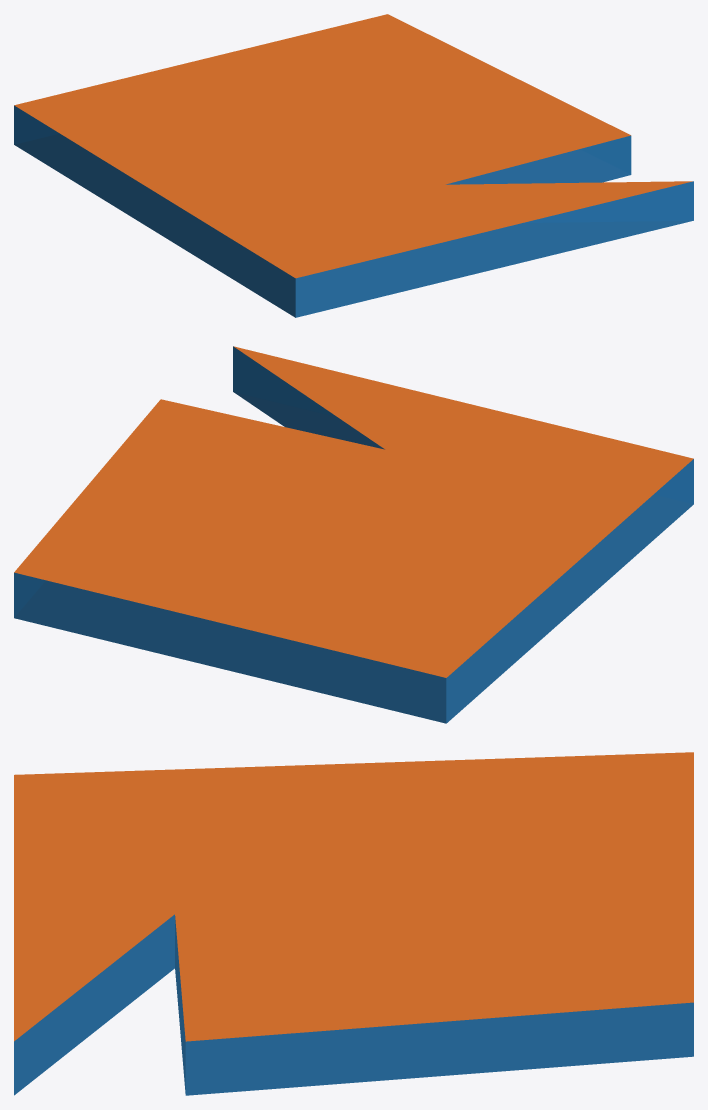
Rendered from narela_gps.obj.
3 renders of one model, top to bottom at view 1: azimuth 30°, elevation 25°; view 2: azimuth 150°, elevation 25°; view 3: azimuth 270°, elevation 25°, orthographic. The views are drawn at different scales.
Visible parts, largest first — view 1: bldg-narela-gps-001; view 2: bldg-narela-gps-001; view 3: bldg-narela-gps-001.
Boxes of the visible parts, x1=… form: bldg-narela-gps-001: x1=14, y1=14, x2=693, y2=317; bldg-narela-gps-001: x1=14, y1=346, x2=693, y2=723; bldg-narela-gps-001: x1=14, y1=752, x2=693, y2=1095.
Size of the model in its own units: 200 by 17.5 by 199.
